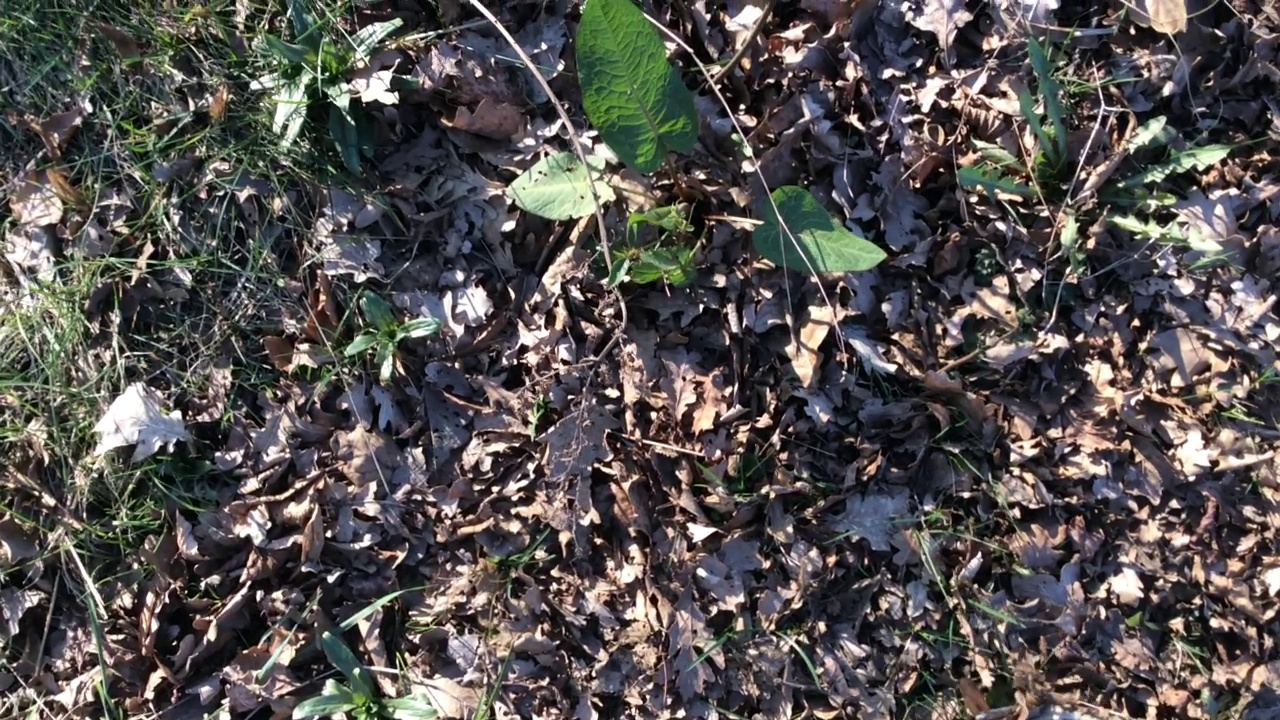rumex: (507, 1, 889, 286)
